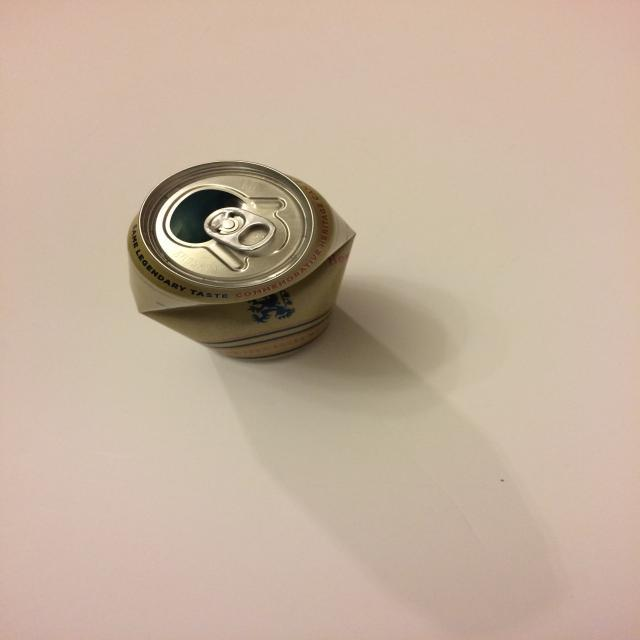metal: (120, 156, 362, 368)
